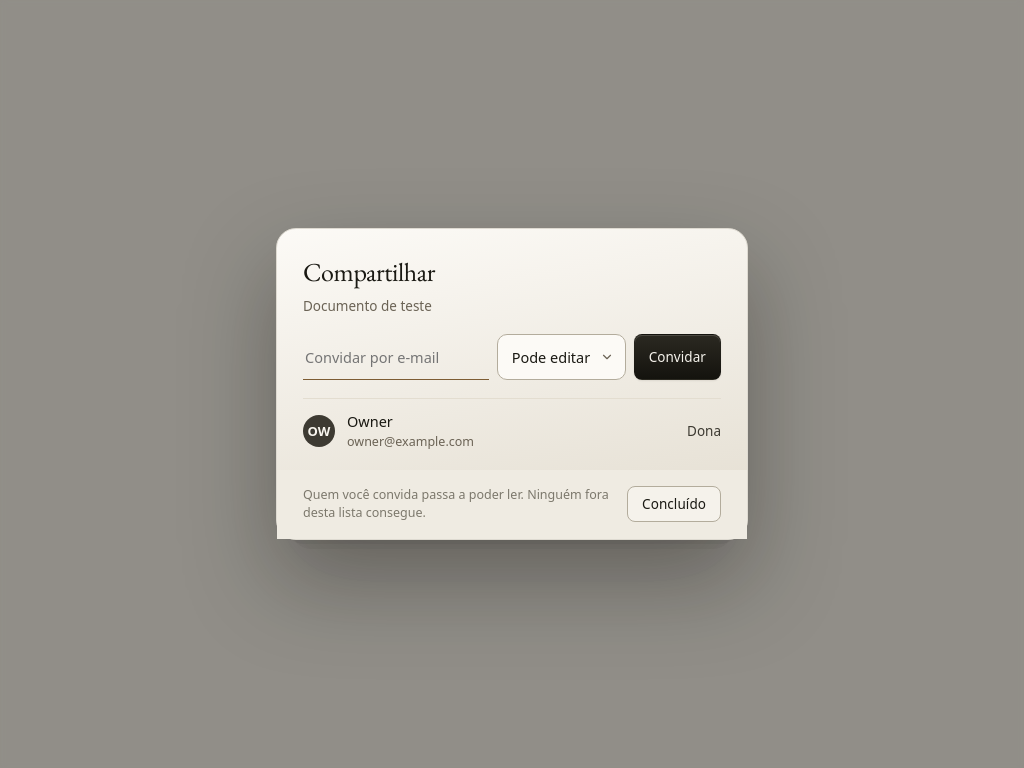
Test: ShareModal › shows the key-change warning inline, as the only modal overlay on screen
expect the text "Owner" is shown: met, box x1=347 y1=411 x2=393 y2=431
Type "bob@example.com" into the field with placeholder "Convidar por e-mail" at (396, 357), box x1=303 y1=334 x2=489 y2=380
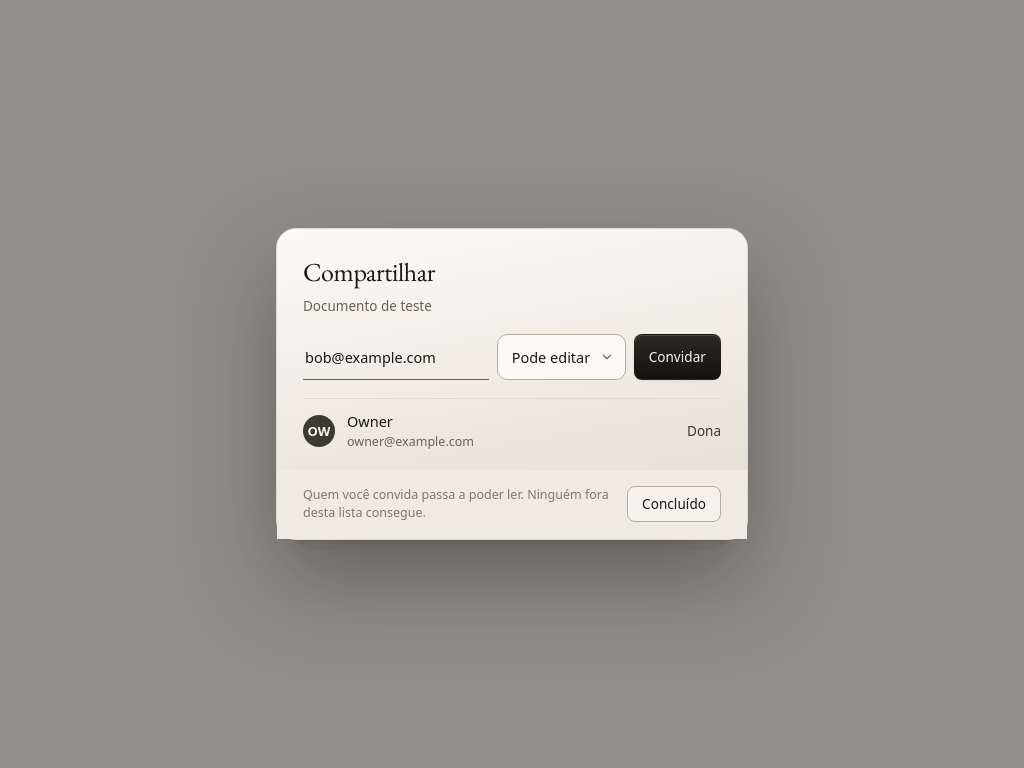
Click the button "Convidar" at (677, 357), box x1=634 y1=334 x2=721 y2=380
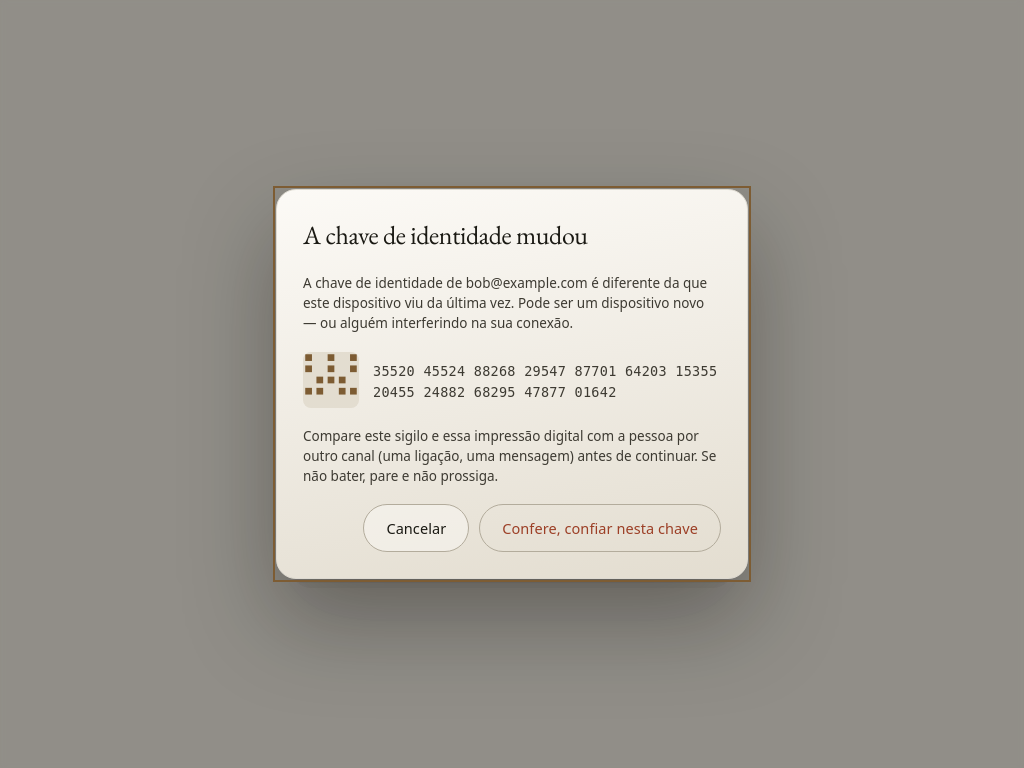
expect the field with placeholder "Convidar por e-mail" is not shown: met
expect the text "A chave de identidade mudou" is shown: met, box x1=303 y1=218 x2=588 y2=252
